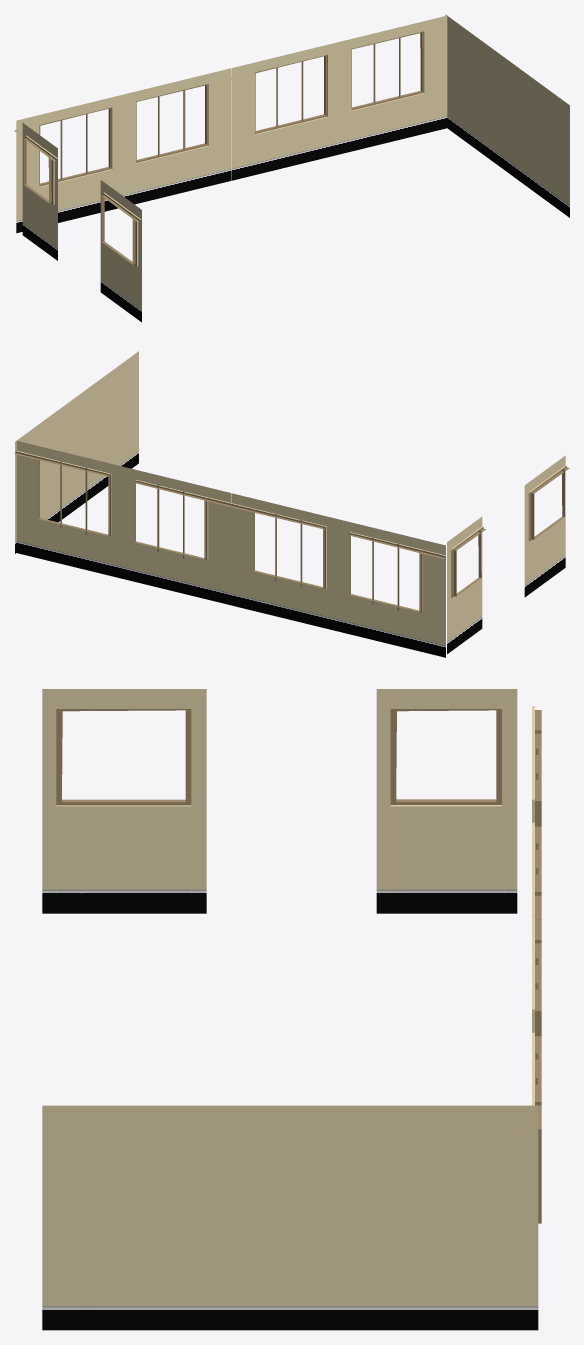
File: p1Ventanas2.fbx
3 renders of one model, top to bottom at view 1: azimuth 30°, elevation 25°; view 2: azimuth 150°, elevation 25°; view 3: azimuth 270°, elevation 25°, orthographic. The views are drawn at different scales.
Visible parts, largest first — view 1: pCube33, pCube20, p1paredDerecha, pCube23, pCube22; view 2: pCube33, pCube20, p1paredDerecha, pCube23, pCube22; view 3: p1paredDerecha, pCube23, pCube22, pCube33, pCube20.
Part boxes in pixels (box(x1,y1,x2,y2)): pCube33: box(231, 15, 447, 180); pCube20: box(14, 68, 231, 233); p1paredDerecha: box(445, 15, 569, 217); pCube23: box(100, 180, 141, 322); pCube22: box(22, 123, 57, 260); pCube33: box(14, 441, 231, 605); pCube20: box(229, 493, 445, 657); p1paredDerecha: box(15, 351, 138, 553); pCube23: box(524, 455, 569, 597); pCube22: box(447, 516, 485, 654); p1paredDerecha: box(42, 1105, 538, 1330); pCube23: box(42, 689, 206, 913); pCube22: box(376, 689, 517, 913); pCube33: box(532, 916, 541, 1223); pCube20: box(532, 706, 541, 919).
Bounding box in the file's own units: 40.15 × 10 × 20.14.
2 materials, 1 textured.
